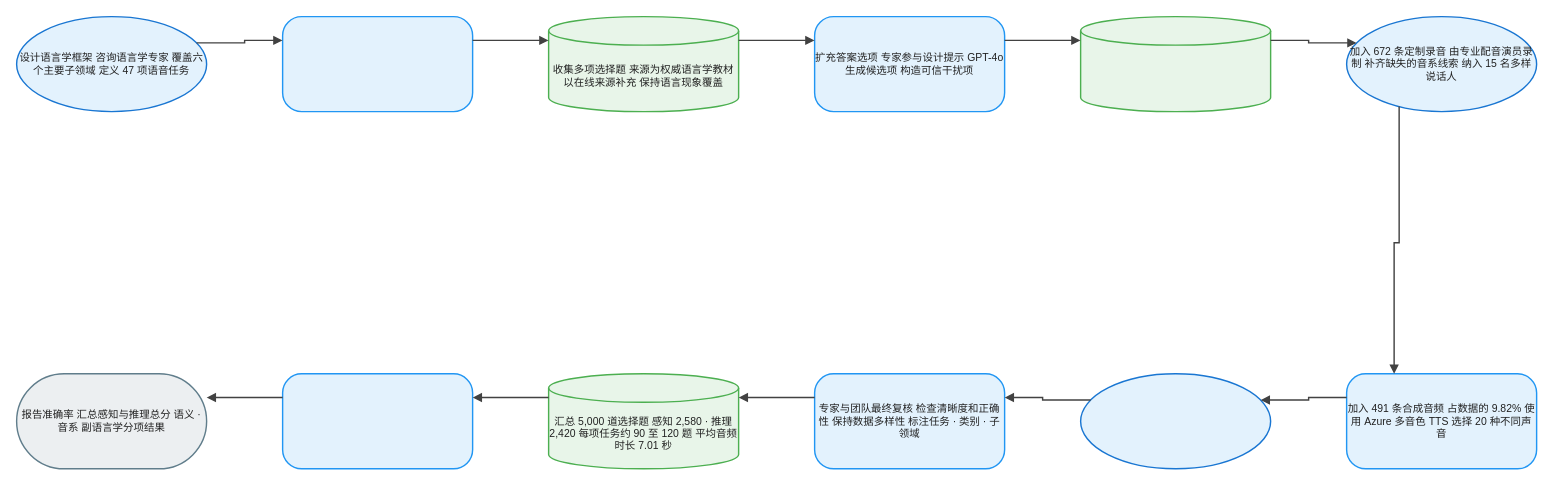
Image size: 1554x486. Some labels were removed from this diagram. Each missing label, with the box of its shape:
优先真实世界音频 3,837 条开源音频 占数据的 76.74% 使用多样语音语料库: (1079, 15, 1271, 112)
执行多轮人工审核 十名受训标注员 过滤或改进低质样本 检查问题 · 选项 · 音频: (1079, 373, 1271, 469)
组织能力层级 24 项感知任务 23 项推理任务 语言学与副语言学: (281, 15, 473, 112)
评测 22 个音频模型 12 个 SpeechLLM · 10 个 OmniLLM 随机且平衡 A-D 选项 人类基线为 15 人答 1,000 题: (281, 373, 473, 469)
